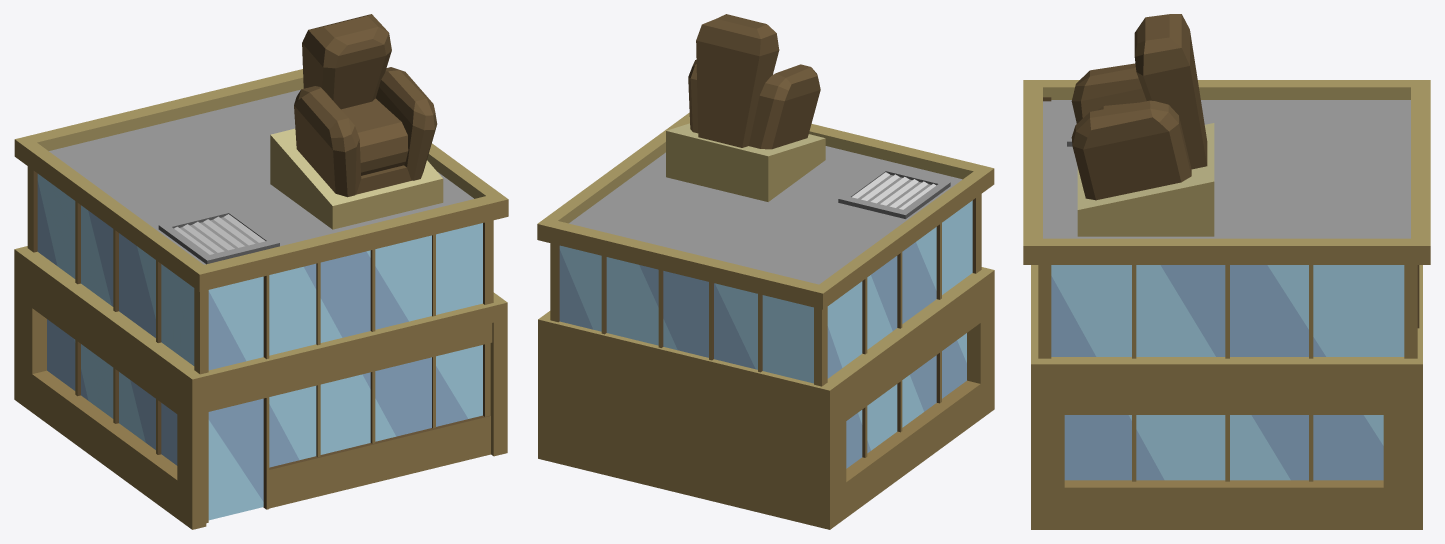
Rendered from services_store_008.fbx.
3 views of the same model, side by side, from view 1: azimuth 30°, elevation 25°; view 2: azimuth 150°, elevation 25°; view 3: azimuth 270°, elevation 25° (orthographic). The views are drawn at different scales.
Visible parts, largest first — view 1: services_store_008; view 2: services_store_008; view 3: services_store_008.
Boxes of the visible parts, box(x1,y1,x2,y2) form: services_store_008: box(14, 14, 508, 529); services_store_008: box(537, 14, 994, 529); services_store_008: box(1023, 14, 1430, 529).
Size of the model in its own units: 593 by 741 by 603.
